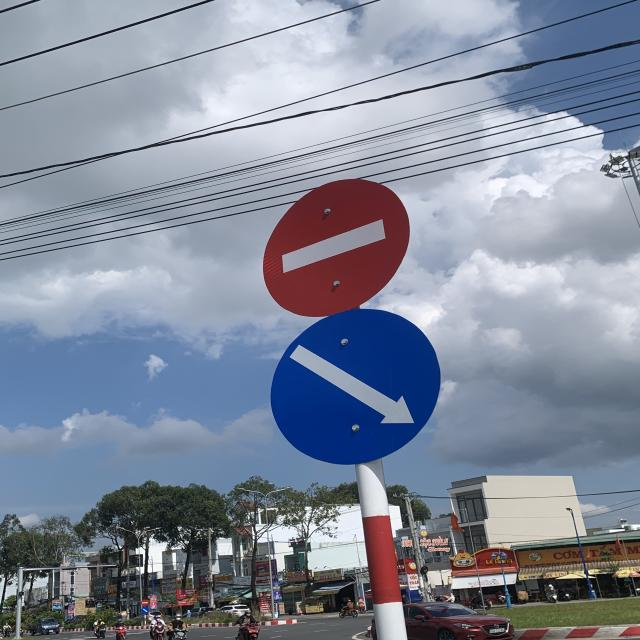Cam_Di_Nguoc_Chieu: (265, 174, 412, 316)
Chi_Huong_Di_Phai: (272, 309, 442, 466)
